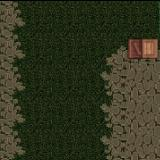Hide: (121, 30, 160, 66)
